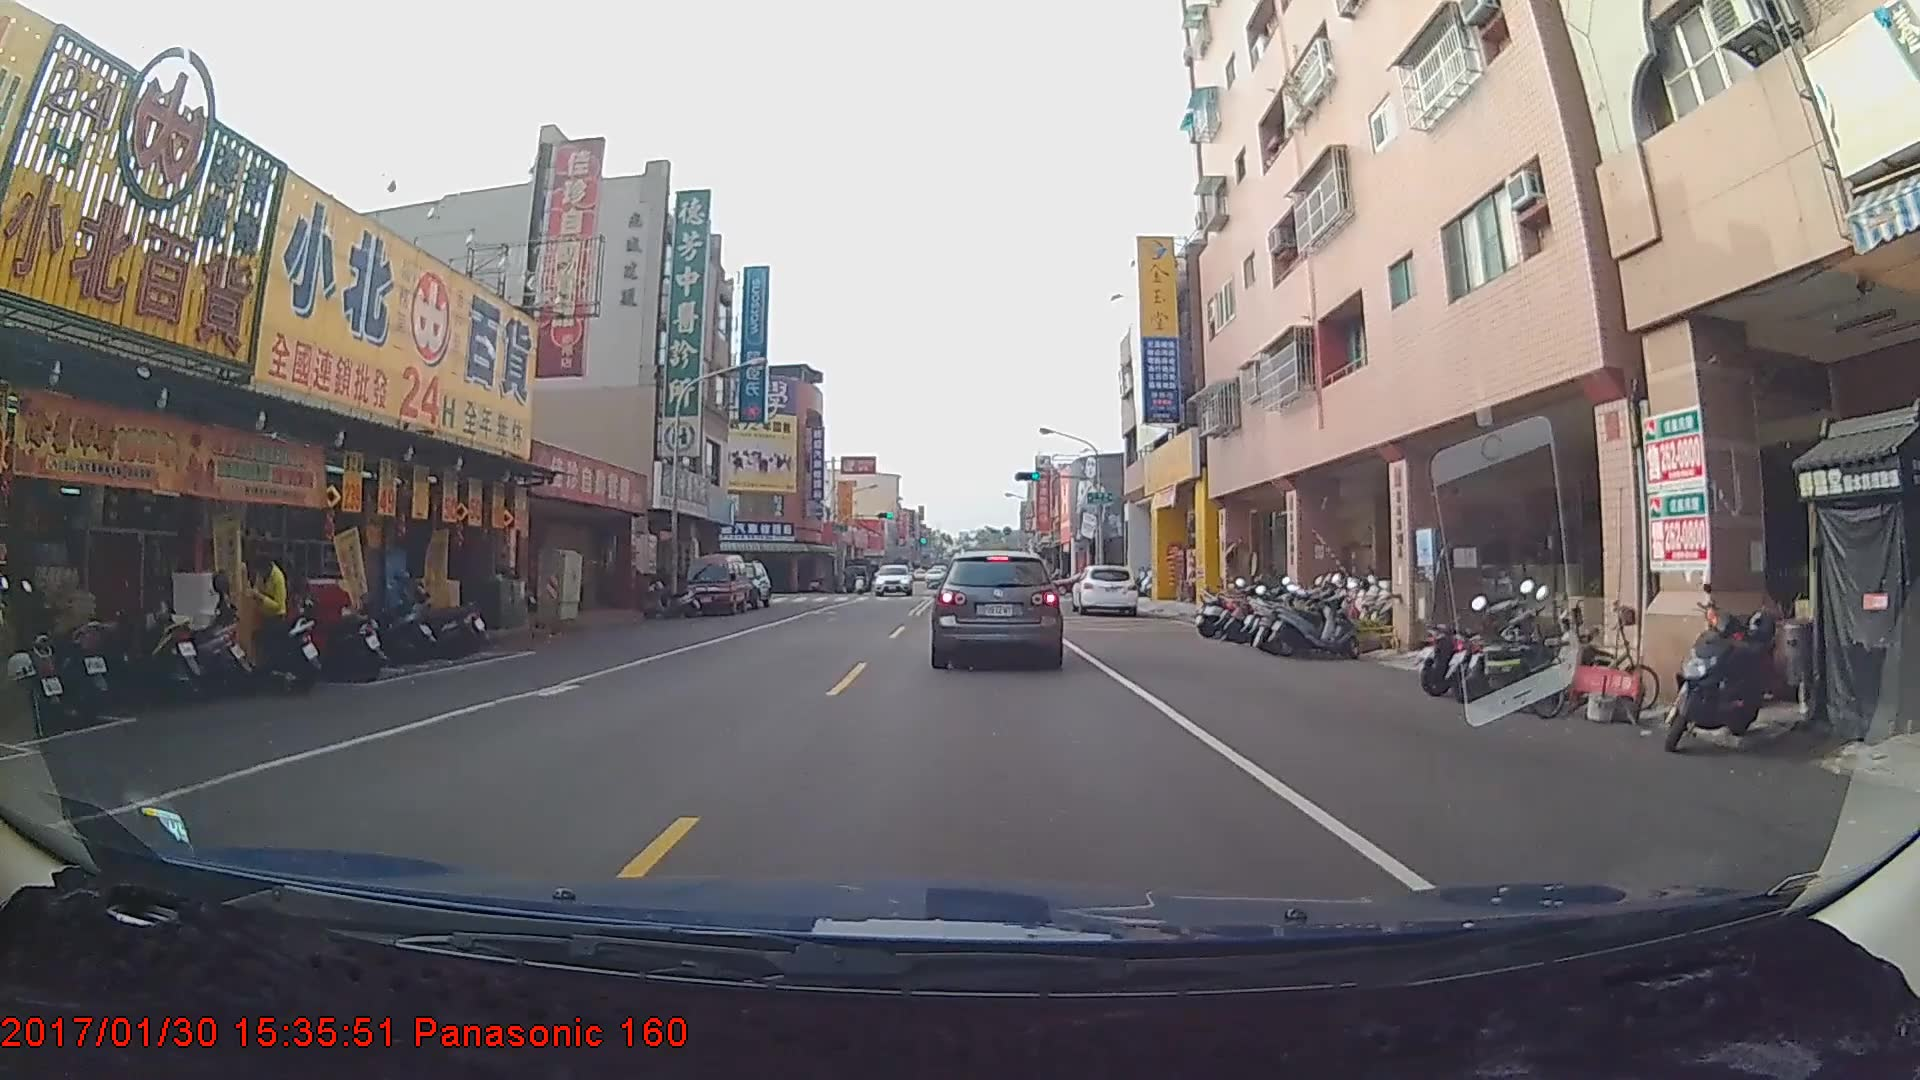pedestrian: (242, 546, 292, 674)
vehicle: (934, 548, 1062, 667), (686, 558, 748, 624), (1072, 564, 1137, 616), (871, 561, 913, 596)
